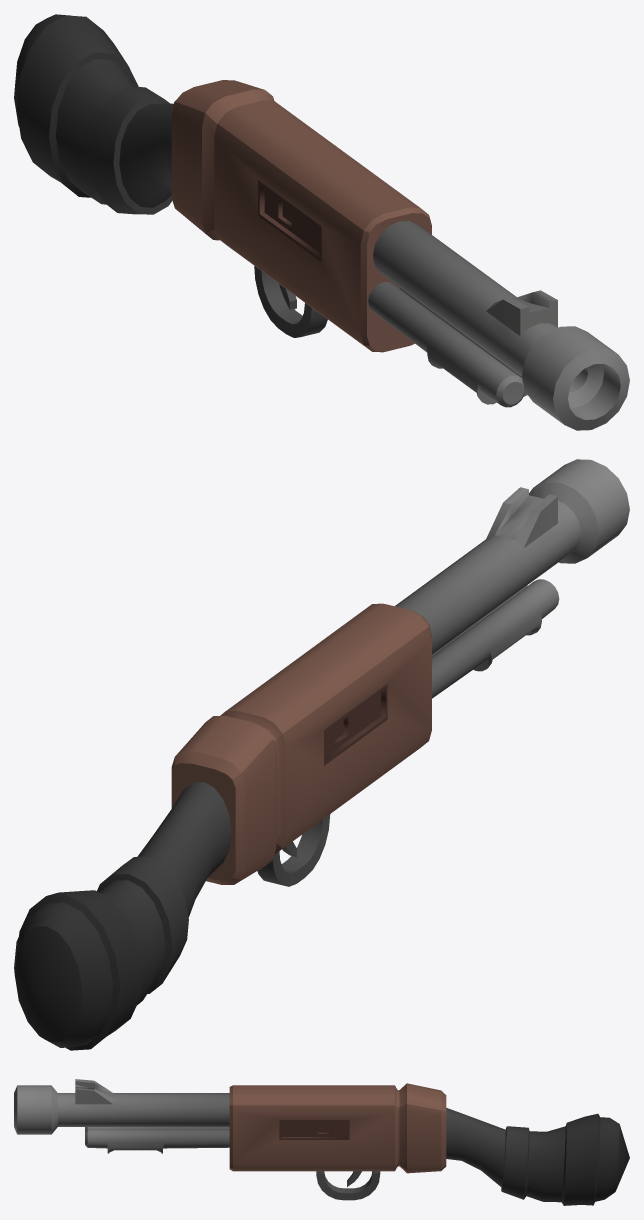
File: Shotgun02.fbx
3 views of the same model, one above another, from view 1: azimuth 30°, elevation 25°; view 2: azimuth 150°, elevation 25°; view 3: azimuth 270°, elevation 25° (orthographic). The views are drawn at different scales.
Visible parts, largest first — view 1: Shotgun02; view 2: Shotgun02; view 3: Shotgun02.
Part boxes in pixels (<box>): Shotgun02: <box>14,14,629,430</box>; Shotgun02: <box>14,459,629,1050</box>; Shotgun02: <box>14,1079,629,1205</box>.
Size of the model in its own units: 0.082 by 0.7637 by 0.1641.
